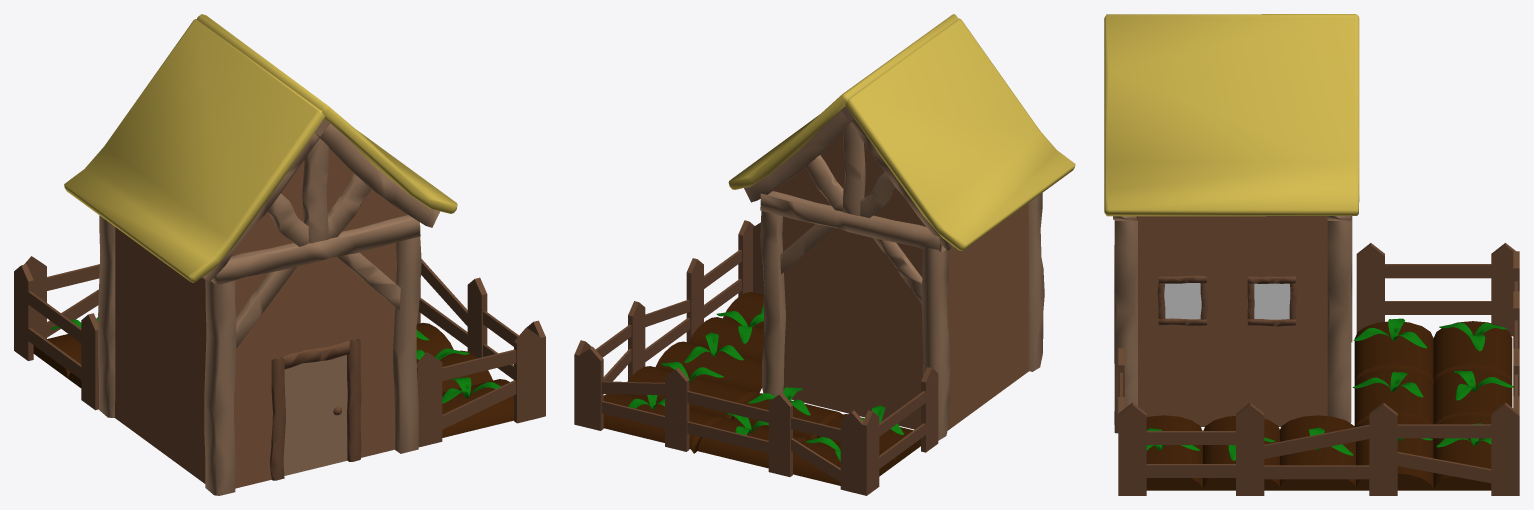
The model's file is PotatoFarm.fbx.
The picture shows the model from 3 angles, left to right: view 1: azimuth 30°, elevation 25°; view 2: azimuth 150°, elevation 25°; view 3: azimuth 270°, elevation 25°; orthographic projection. The views are drawn at different scales.
Parts seen in each view (by area): view 1: Roof2, Wall_front, Wall_left, Door, HousePillar, HousePillar2, HousePillar5, Roof, HousePillar.001, HousePillar2.003, Cube.001, HousePillar2.005 (+26 smaller); view 2: Roof2, Wall_back, Wall_left, Cylinder.004, HousePillar.001, HousePillar2.008, HousePillar5.001, Cylinder.003, Roof, Cylinder.002, HousePillar, HousePillar2.009 (+30 smaller); view 3: Roof, Wall_right, Cylinder.004, Cylinder.003, HousePillar2.008, HousePillar2, Cylinder.002, Cube.003, Cube.004, Cube.005, Cube.002, Cylinder (+17 smaller).
Boxes of the visible parts, box(x1,y1,x2,y2) form: Roof2: box(64, 19, 325, 282); Wall_front: box(231, 148, 407, 488); Wall_left: box(115, 227, 206, 483); Door: box(283, 354, 347, 475); HousePillar: box(204, 280, 236, 495); HousePillar2: box(393, 236, 421, 453); HousePillar5: box(211, 215, 420, 285); Roof: box(197, 14, 457, 213); HousePillar.001: box(98, 215, 115, 417); HousePillar2.003: box(316, 123, 439, 227); Cube.001: box(514, 327, 541, 423); HousePillar2.005: box(302, 138, 328, 243); Roof2: box(845, 18, 1075, 250); Wall_back: box(773, 131, 925, 429); Wall_left: box(947, 203, 1028, 430); Cylinder.004: box(603, 394, 894, 485); HousePillar.001: box(921, 246, 950, 440); HousePillar2.008: box(760, 211, 785, 396); HousePillar5.001: box(760, 191, 945, 252); Cylinder.003: box(627, 366, 920, 464); Roof: box(728, 14, 958, 189); Cylinder.002: box(655, 341, 761, 393); HousePillar: box(1028, 193, 1044, 371); HousePillar2.009: box(744, 111, 853, 202); Roof: box(1104, 14, 1359, 216); Wall_right: box(1138, 216, 1327, 426); Cylinder.004: box(1433, 321, 1512, 490); Cylinder.003: box(1354, 321, 1433, 490); HousePillar2.008: box(1327, 220, 1351, 423); HousePillar2: box(1114, 220, 1137, 433); Cylinder.002: box(1280, 415, 1355, 490); Cube.003: box(1236, 402, 1264, 495); Cube.004: box(1369, 402, 1397, 495); Cube.005: box(1491, 402, 1519, 495); Cube.002: box(1118, 402, 1146, 495); Cylinder: box(1146, 415, 1203, 490).
Size of the model in its own units: 312 by 307 by 308.
